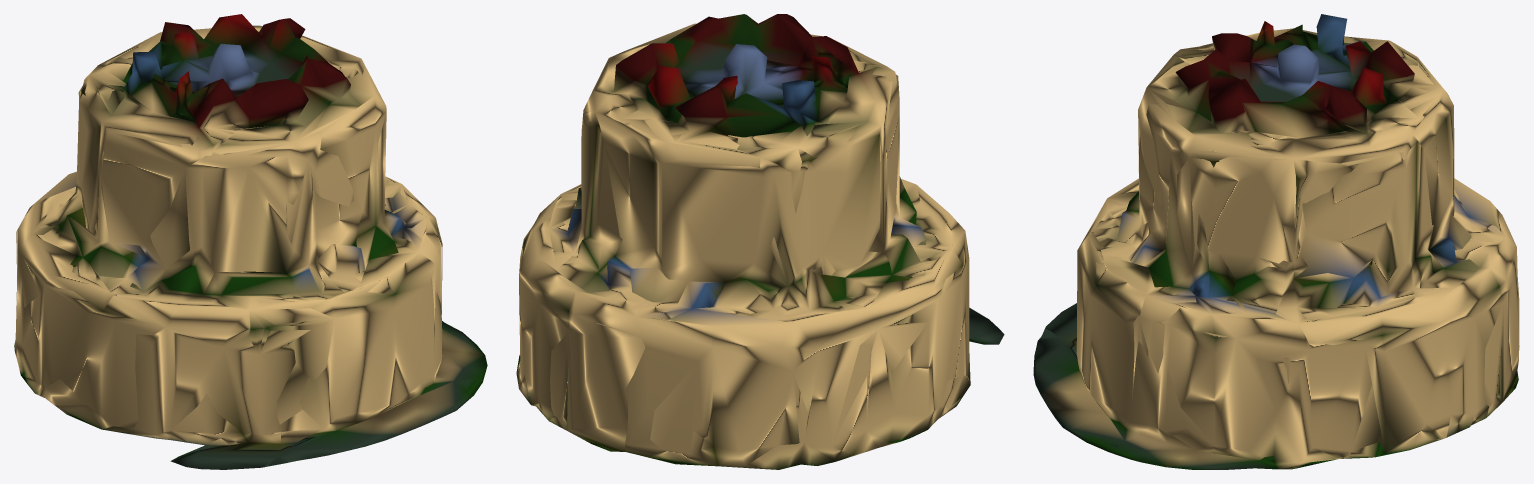
The model's file is gen3d-wedding-cake-lod0.glb.
3 views of the same model, side by side, from view 1: azimuth 30°, elevation 25°; view 2: azimuth 150°, elevation 25°; view 3: azimuth 270°, elevation 25° (orthographic). The views are drawn at different scales.
Visible parts, largest first — view 1: part_0; view 2: part_0; view 3: part_0.
Part boxes in pixels (box(x1,y1,x2,y2)): part_0: box(14, 14, 487, 469); part_0: box(516, 14, 1004, 469); part_0: box(1033, 14, 1519, 469).
Bounding box in the file's own units: 1.28 × 0.995 × 1.35.
